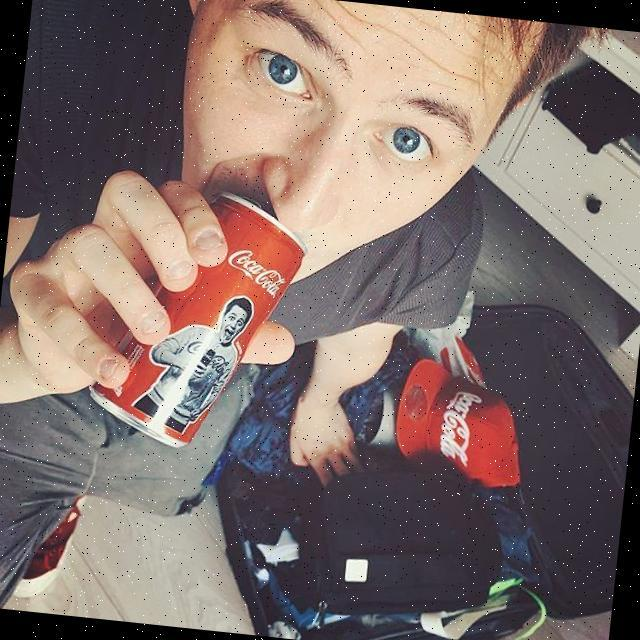coca-cola: (85, 174, 313, 462)
